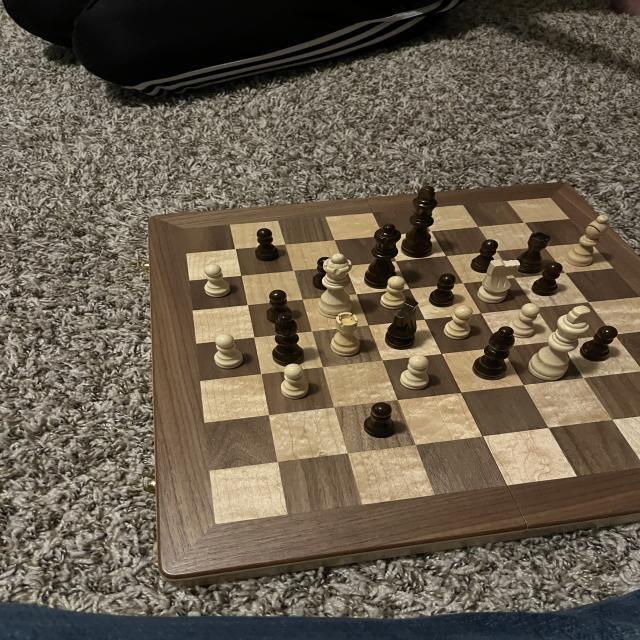bishop: (471, 324, 517, 384), (268, 312, 308, 368)
black-bishop: (401, 184, 444, 260)
black-king: (382, 298, 423, 353)
black-knight: (580, 324, 620, 364), (358, 400, 396, 441), (426, 272, 466, 310), (530, 261, 565, 298), (469, 238, 504, 274), (250, 226, 283, 264), (265, 288, 296, 325), (312, 257, 338, 294)
black-pawn: (361, 222, 406, 291)
black-queen: (513, 230, 551, 274)
black-rook: (564, 212, 614, 270)
white-bishop: (526, 301, 592, 385)
white-king: (476, 256, 524, 308)
white-knight: (438, 302, 480, 342), (507, 300, 545, 340), (211, 332, 249, 371), (399, 354, 434, 391), (279, 361, 311, 401), (377, 275, 410, 313), (202, 263, 234, 299)
white-pawn: (317, 253, 358, 319)
white-queen: (324, 310, 366, 365)
